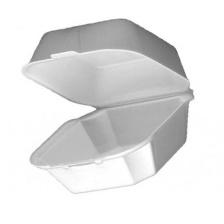foam_box: (17, 15, 200, 200)
